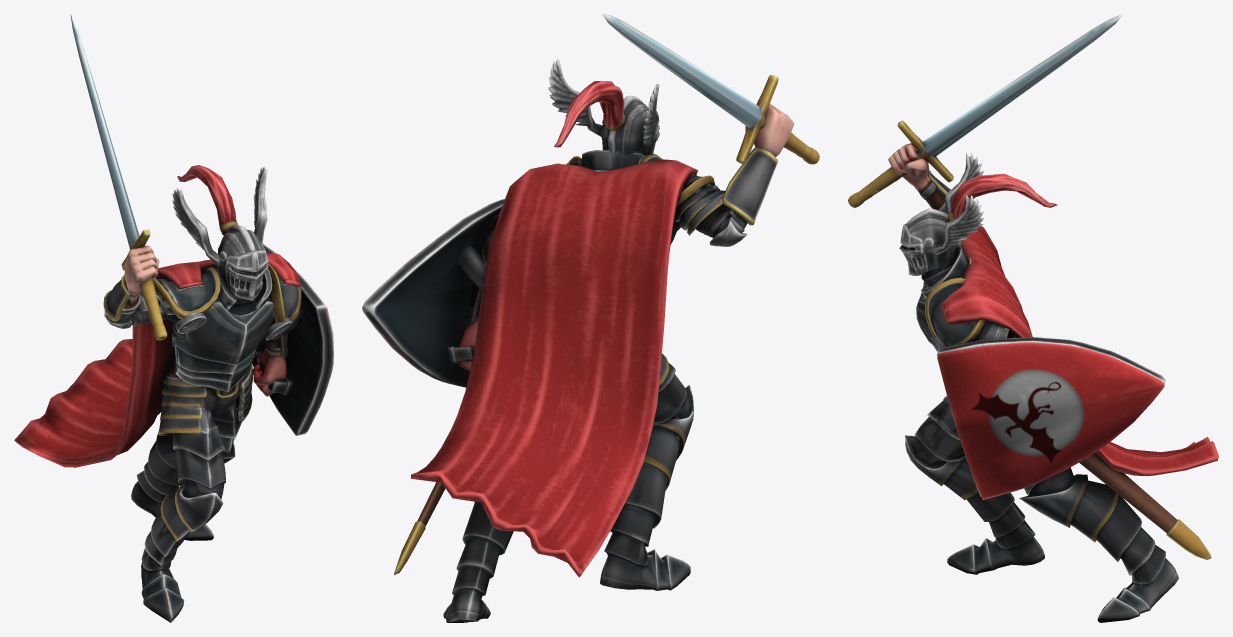
Rendered from MZ4250 - Human Paladin.glb.
3 renders of one model, left to right at view 1: azimuth 30°, elevation 25°; view 2: azimuth 150°, elevation 25°; view 3: azimuth 270°, elevation 25°, orthographic. The views are drawn at different scales.
Parts seen in each view (by area): view 1: body_low.001; view 2: body_low.001; view 3: body_low.001.
Part boxes in pixels (<box>): body_low.001: <box>14,14,333,622</box>; body_low.001: <box>362,14,819,622</box>; body_low.001: <box>848,14,1218,622</box>.
Bounding box in the file's own units: 0.6951 × 1.55 × 0.9517.
Materials: 1 (1 with a texture image).
